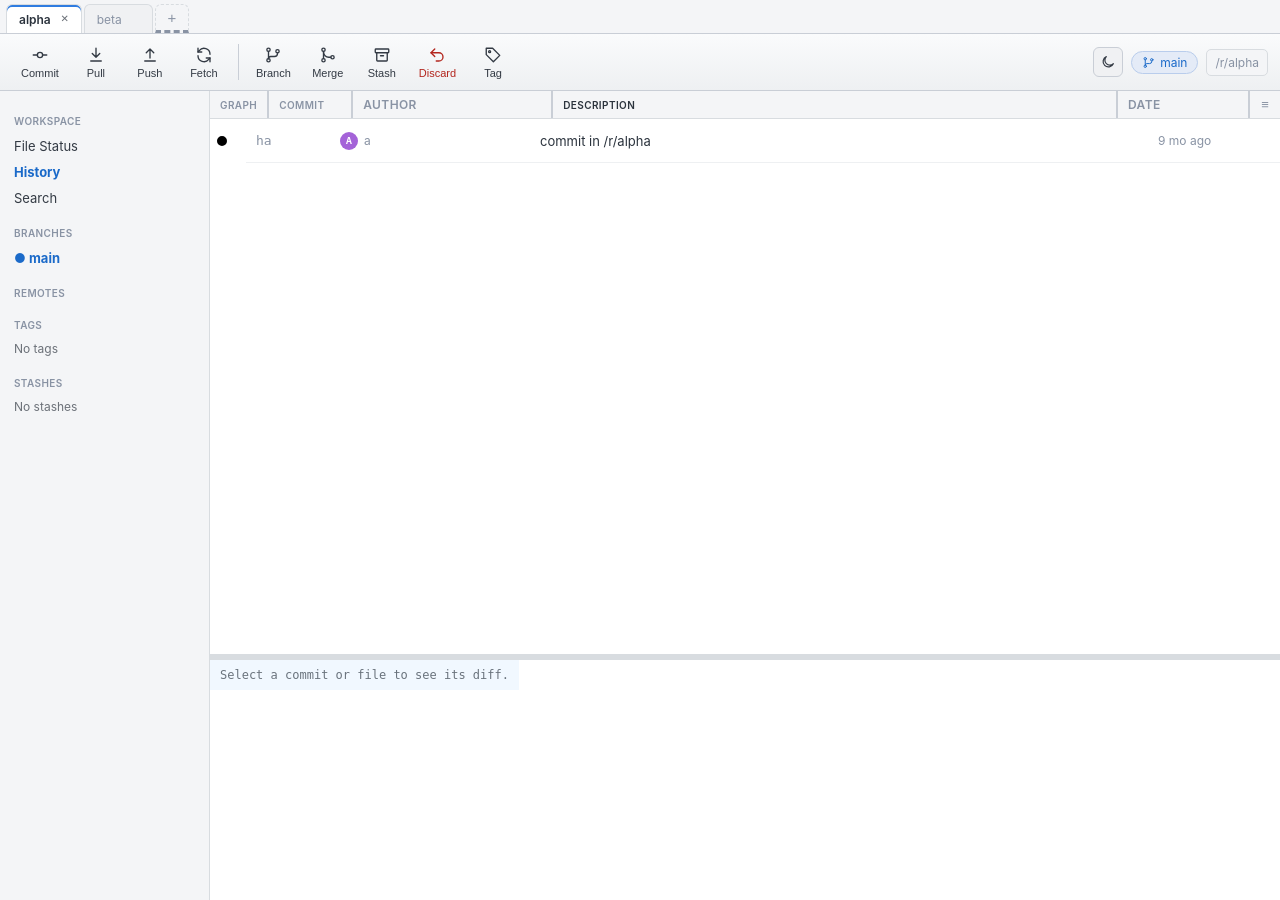
Test case: App tab session › keeps each tab on its own selection across a switch
Note: Select a commit in alpha, so its diff pane is filled.
Click the text "commit in /r/alpha" at (595, 140), box [540,132,651,148]
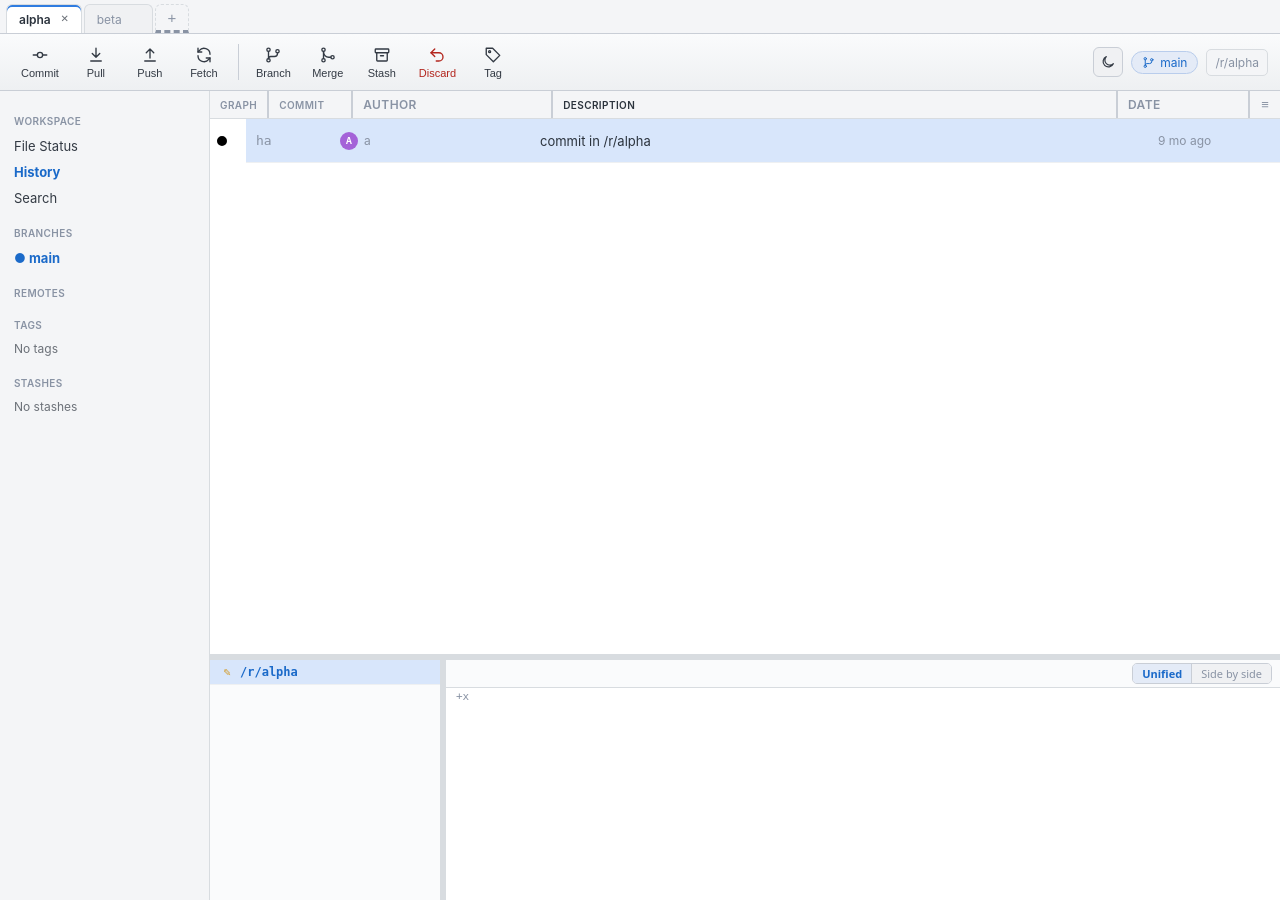
Check: the element with class "workspace" shows "+x", box [456,690,469,703]
Note: Beta has its own empty selection.
Click the text "beta" at (109, 19), box [97,12,122,26]
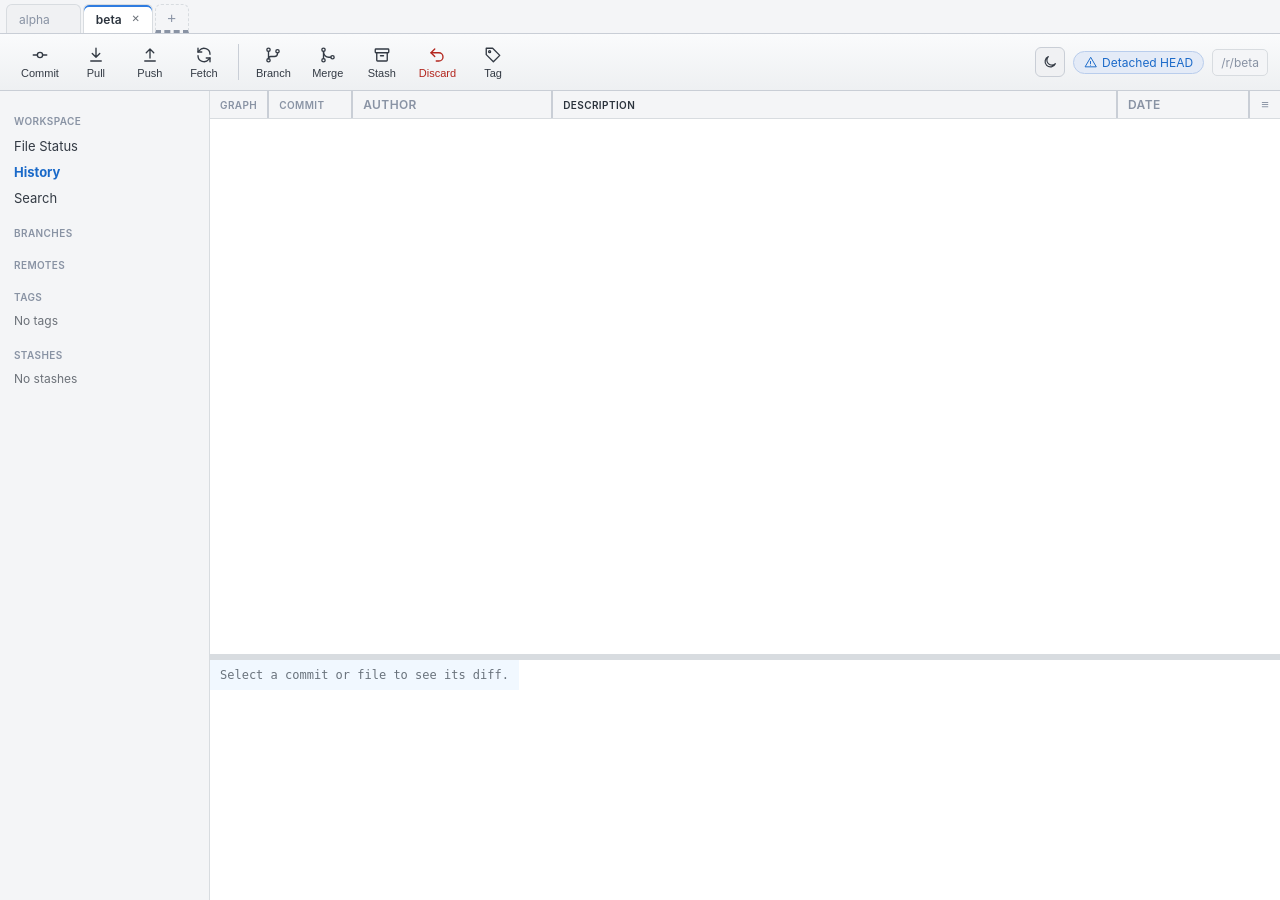
Check: the element with class "workspace" shows "Select a commit or file to see its diff.", box [220,668,509,682]
Note: Back to alpha: its diff is still there.
Click the text "alpha" at (34, 19), box [19,12,50,26]
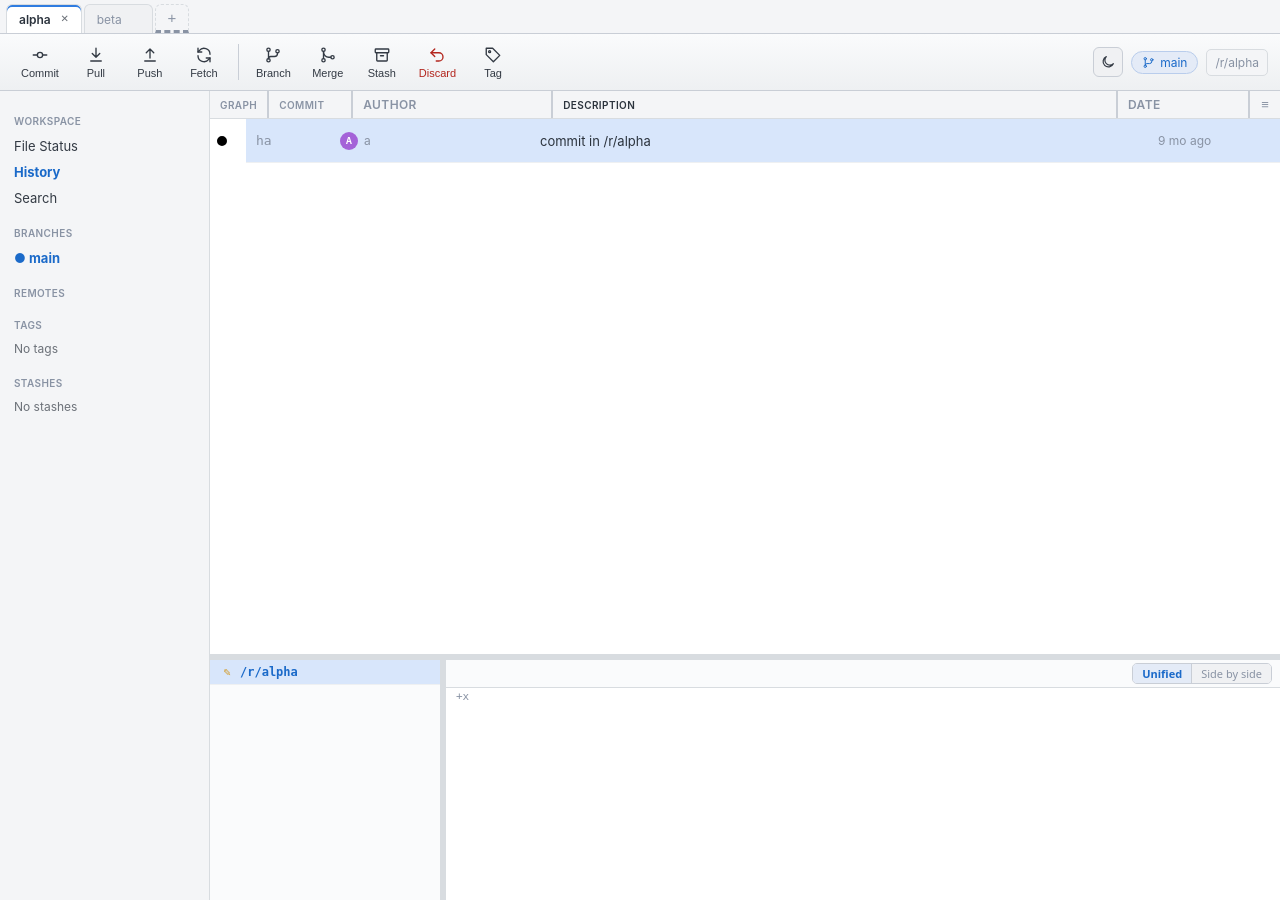
Check: the element with class "workspace" shows "+x", box [456,690,469,703]
